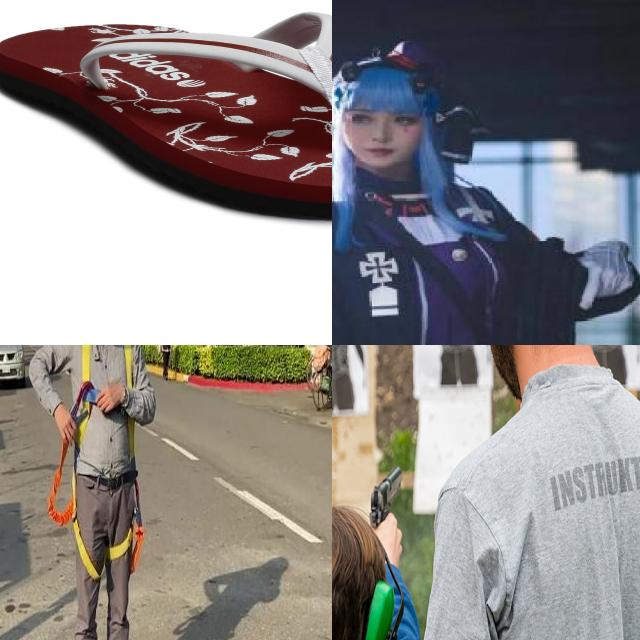Ear-protection: (358, 577, 396, 640)
Harness: (48, 345, 101, 580)
No_Glasses: (343, 110, 417, 132)
Sandals: (0, 9, 332, 222)
face_nomask: (340, 92, 416, 183)
hand_glove: (571, 233, 640, 318)
head_nohelmet: (332, 46, 440, 126)
person: (332, 12, 597, 345), (424, 345, 640, 640)
